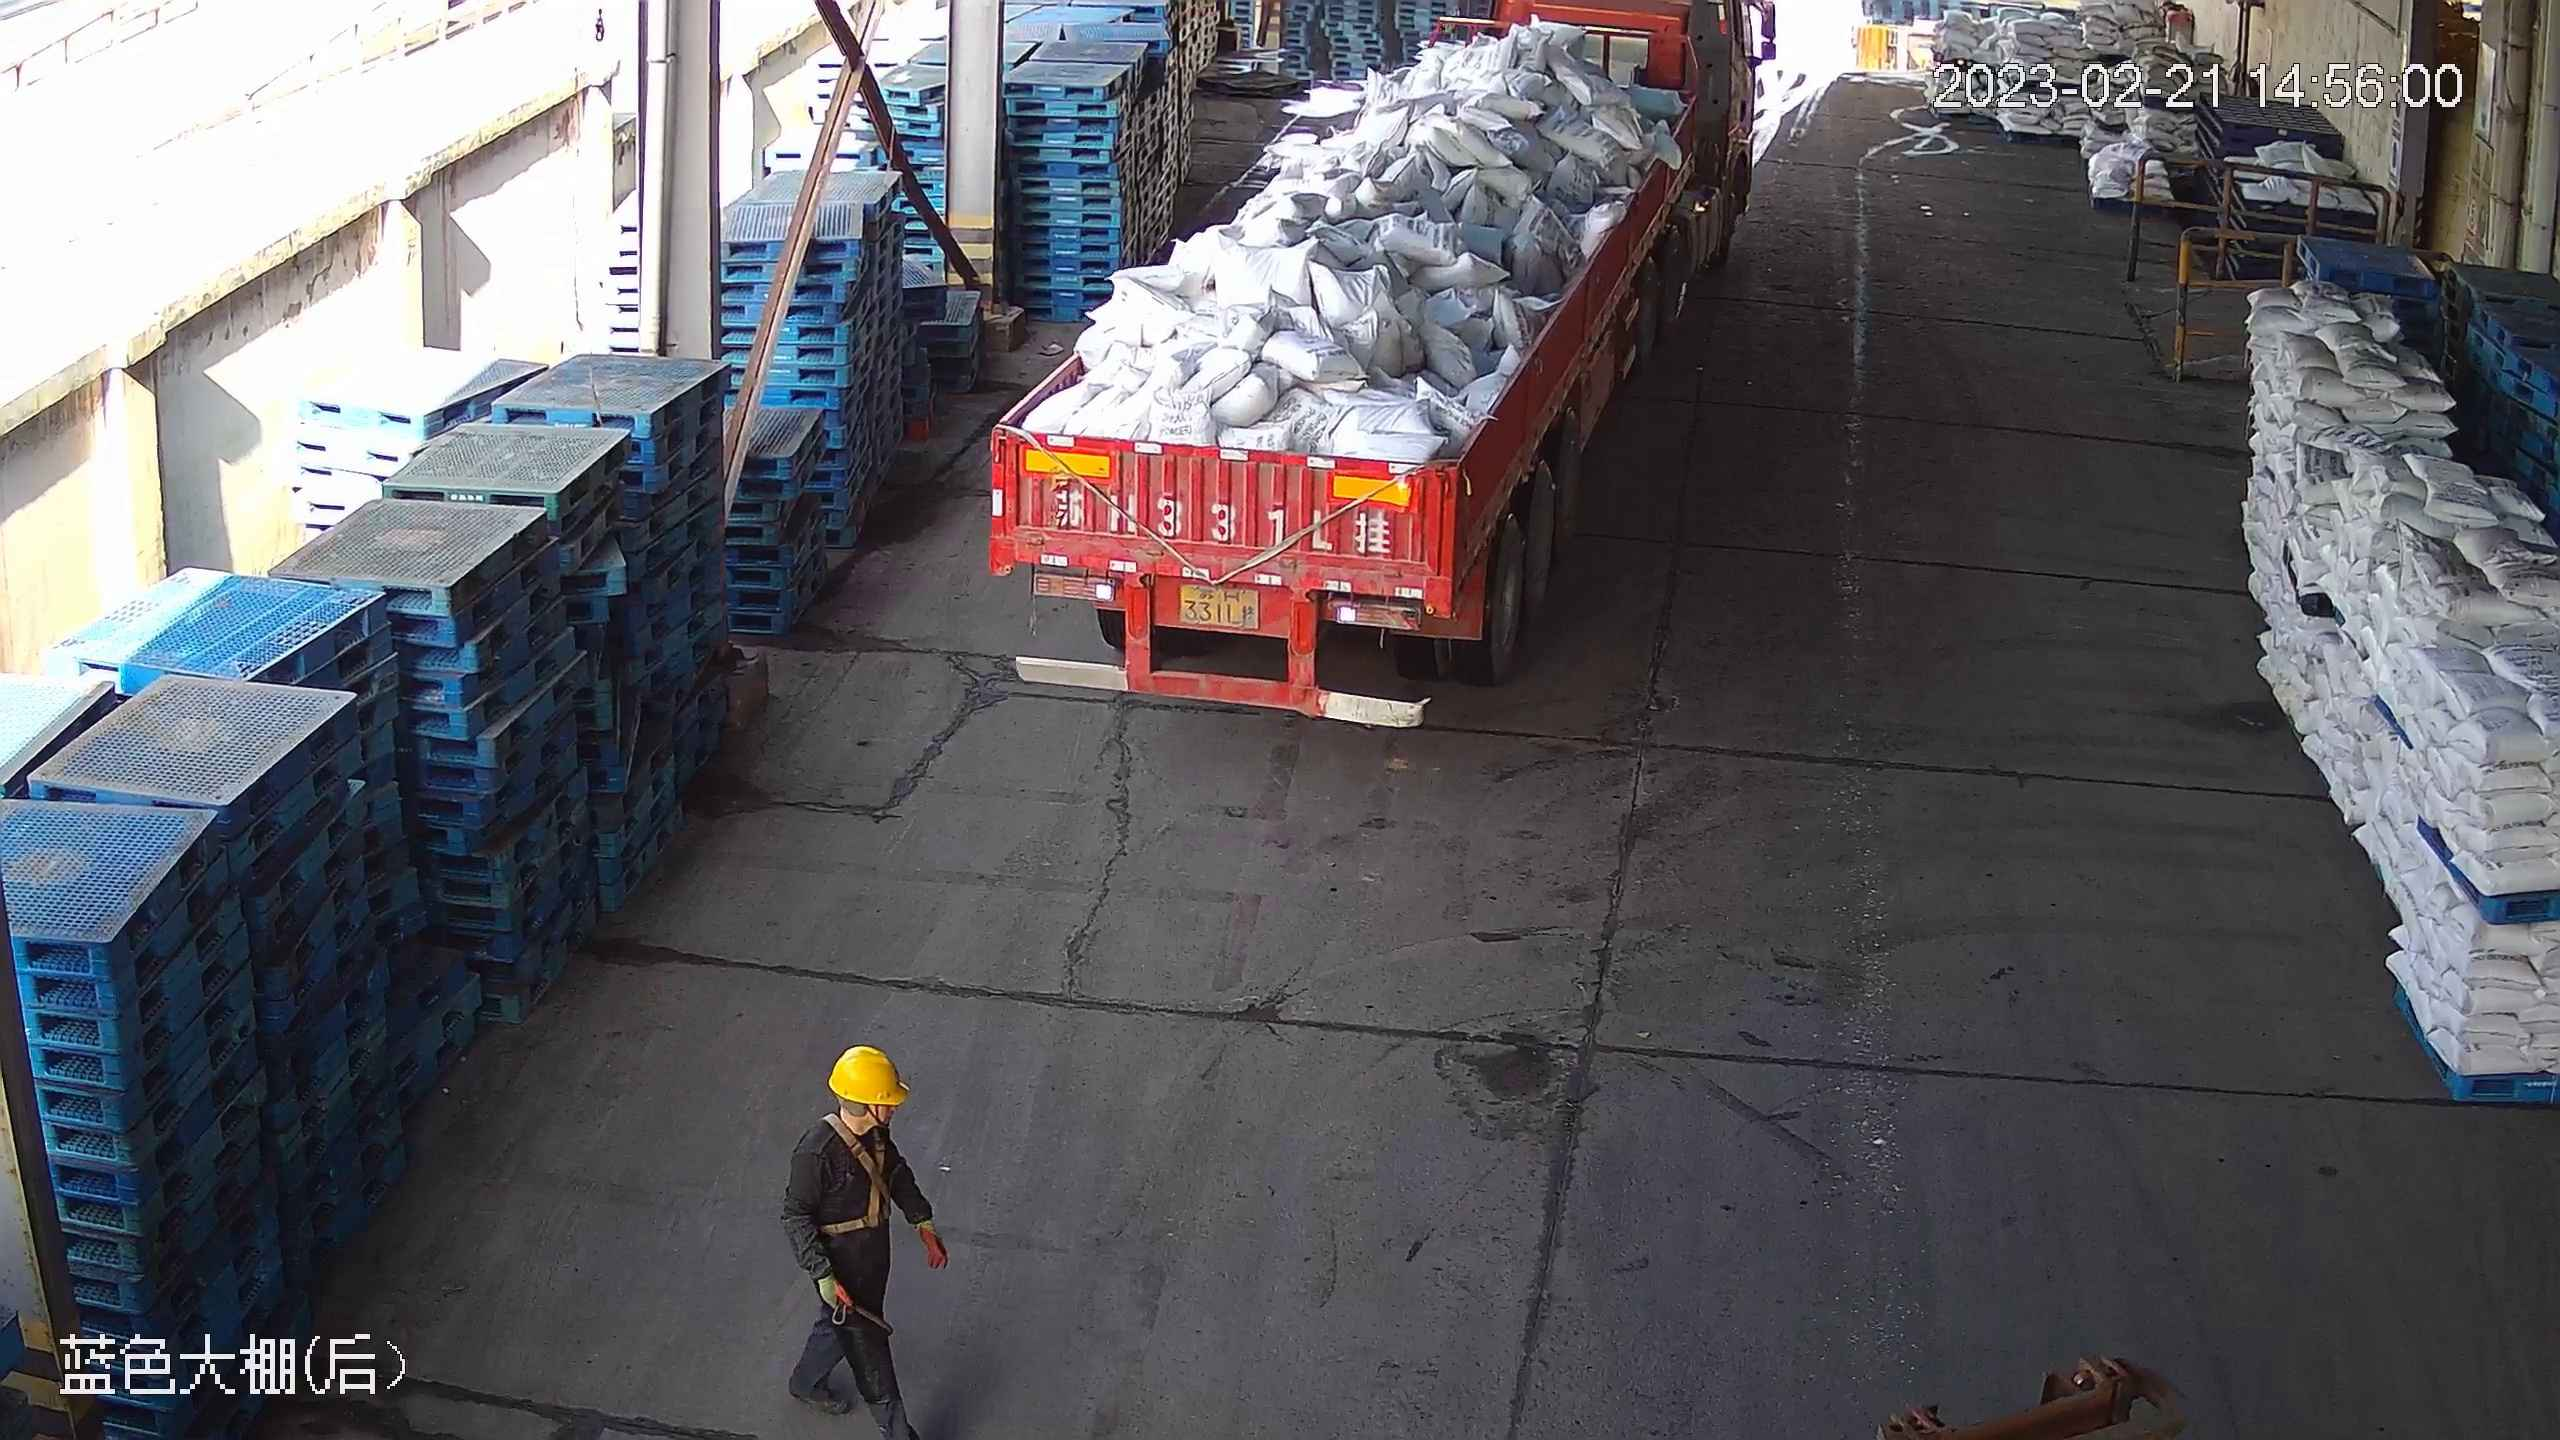belt: (813, 1139, 892, 1236)
head: (795, 1044, 907, 1172)
helmet: (828, 1044, 907, 1108)
people: (783, 1044, 951, 1440)
truck: (983, 1, 1790, 762)
